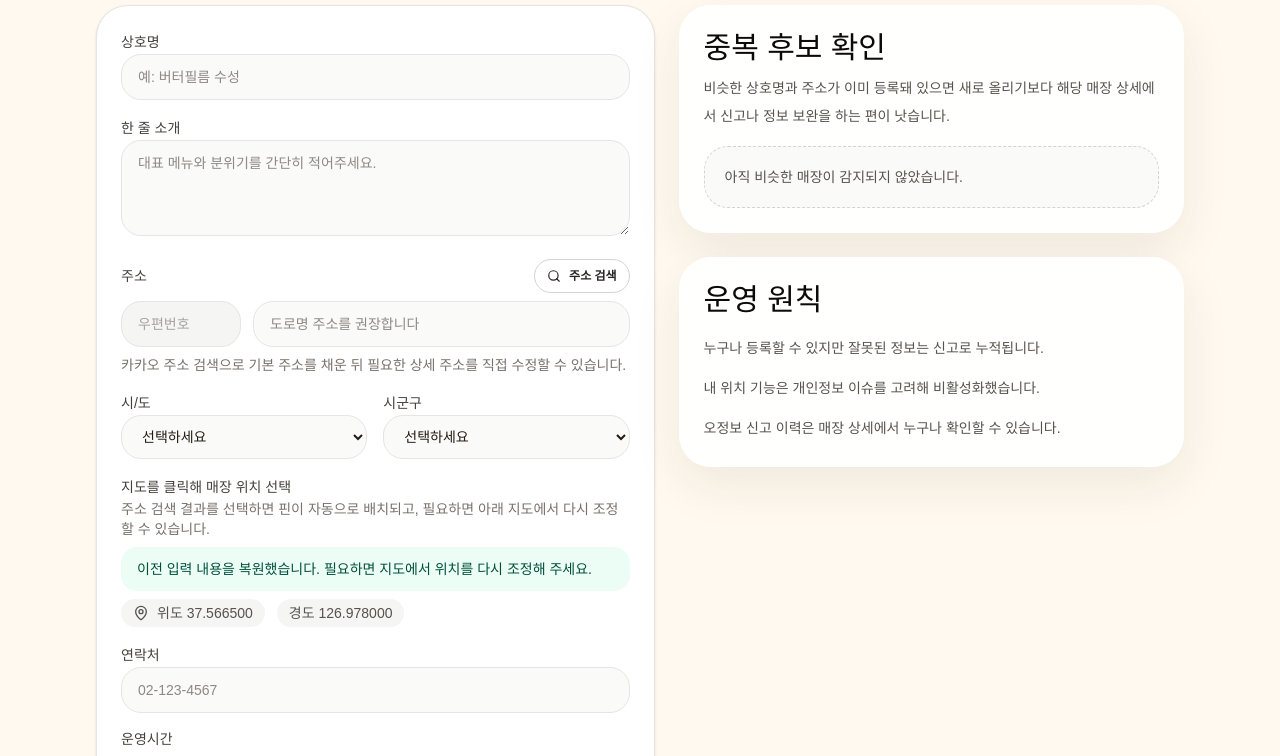
Test: SubmissionHub › shows a success popup and lets the user close it
The width and height of the screenshot is (1280, 756).
Type "버터 테스트" into the field labelled "상호명". click: point(375, 77)
box: [121,54,630,100]
Type "버터떡이 맛있는 가게예요" into the text box labelled "한 줄 소개". click: point(375, 188)
box: [121,140,630,236]
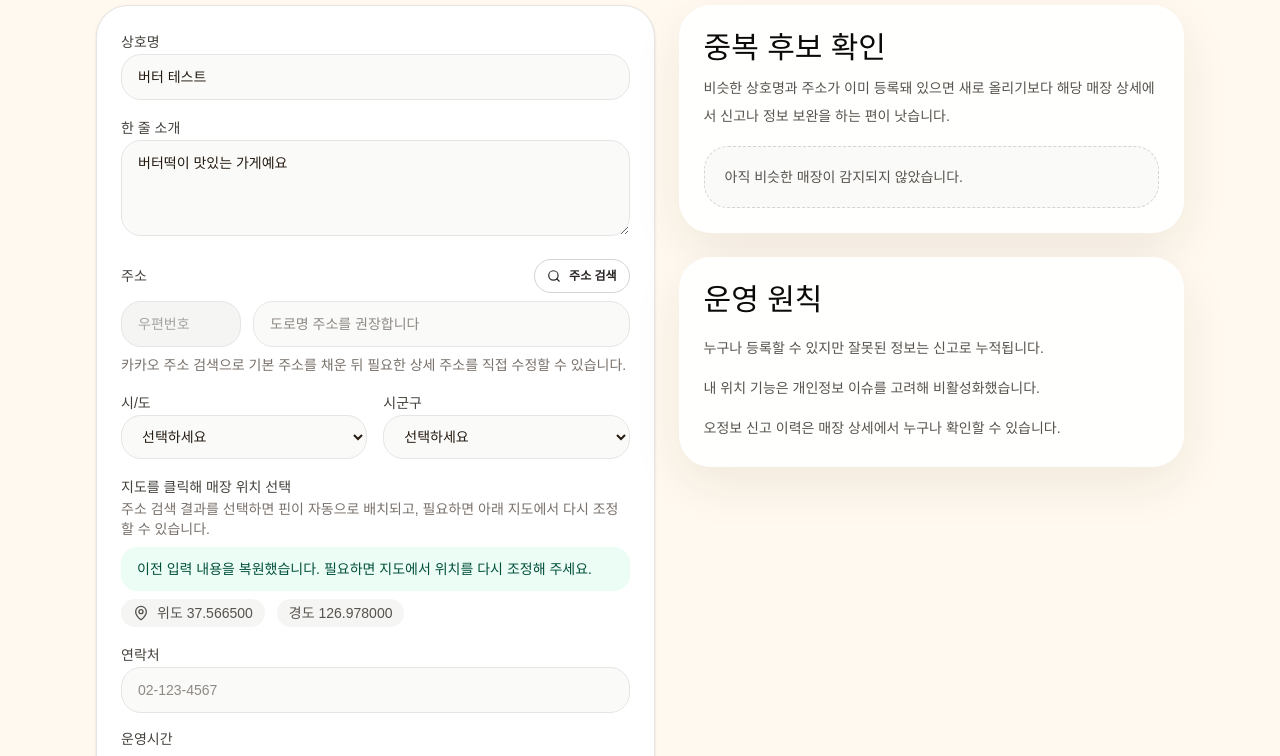
Type "서울특별시 중구 세종대로 110" into the field with placeholder "도로명 주소를 권장합니다". click: point(441, 324)
box: [253,301,630,347]
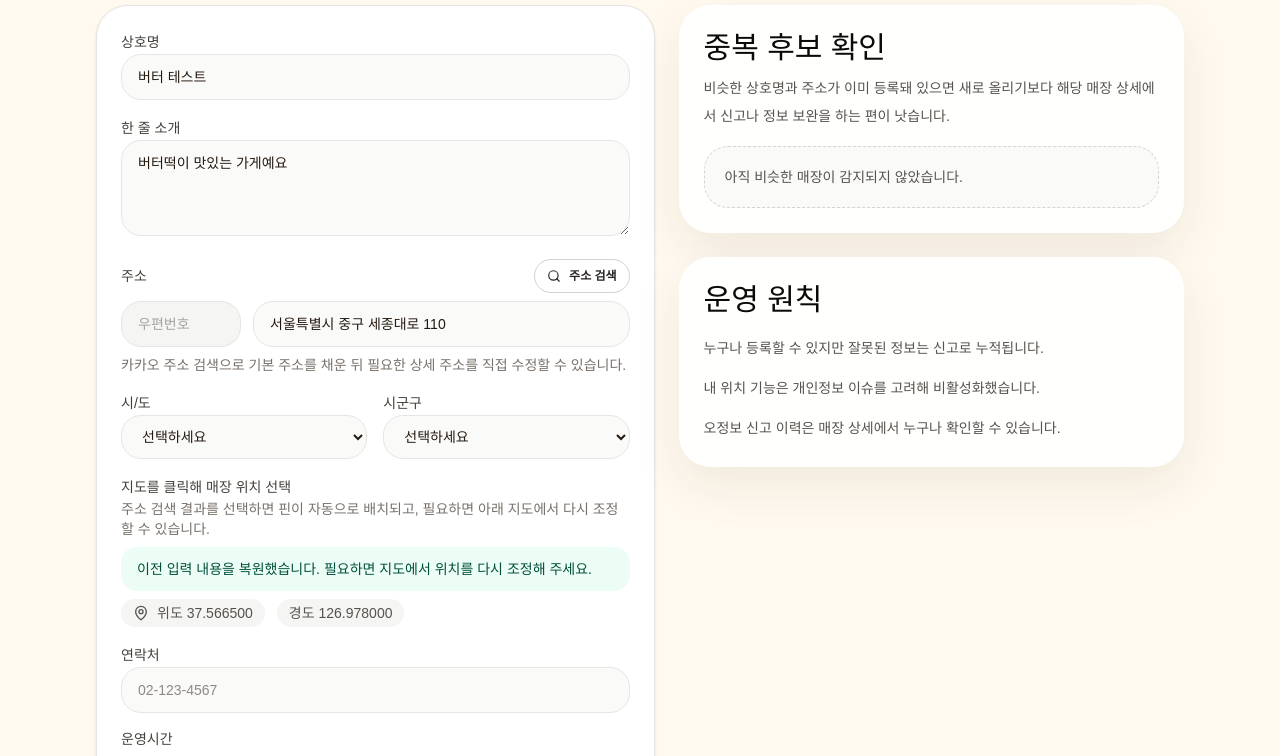
Select "서울특별시" in the dropdown labelled "시/도". click: point(244, 437)
box: [121,415,367,459]
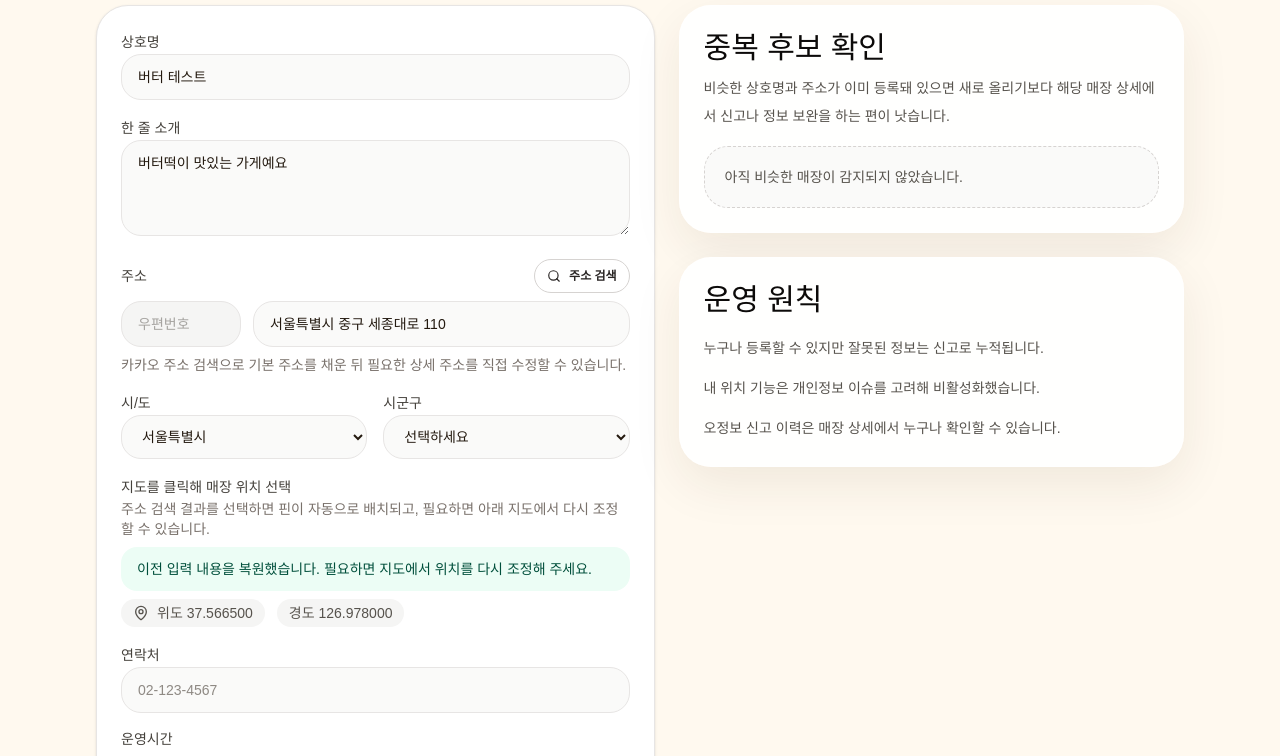
Select "중구" in the dropdown labelled "시군구". click: point(506, 437)
box: [383,415,630,459]
(page scrolled)
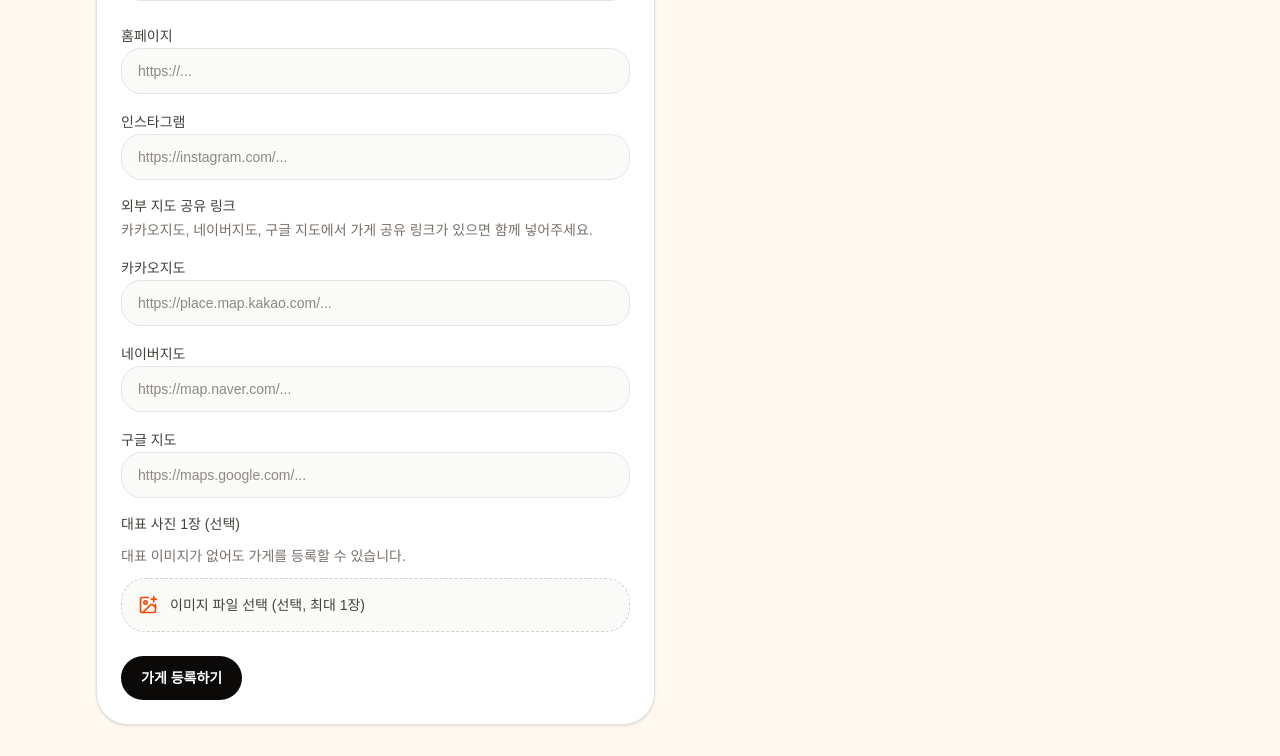
Click the button "가게 등록하기". click: point(182, 678)
box: [121,656,242,700]
(page scrolled)
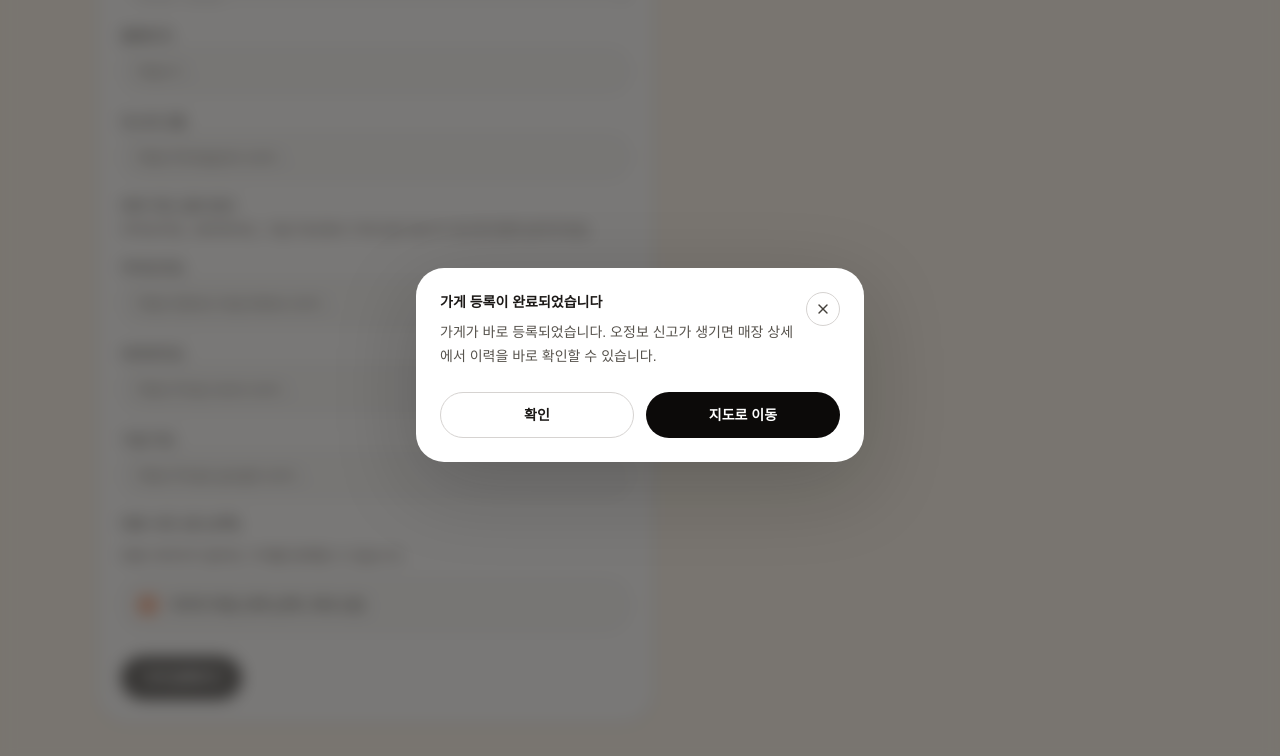
Result: the text "가게 등록이 완료되었습니다" is shown at [440,294,602,310]
Result: the button "확인" is shown
Result: the button "지도로 이동" is shown at [646,392,840,438]
Click the button "확인". click: point(537, 415)
box: [440,392,634,438]
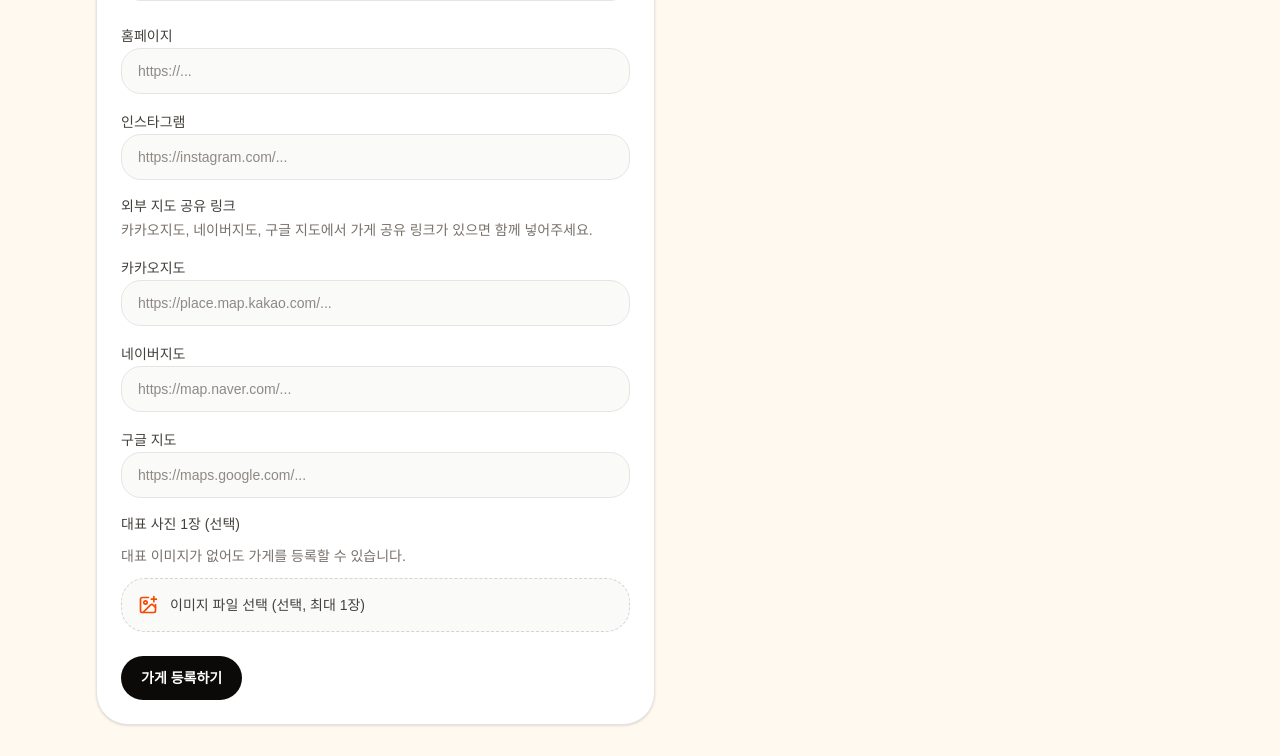
Result: the text "가게 등록이 완료되었습니다" is gone
